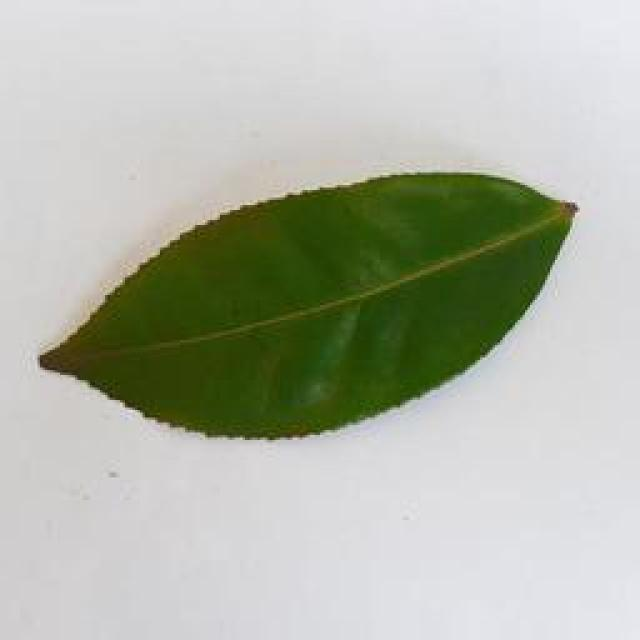Healthy: (22, 158, 592, 436)
